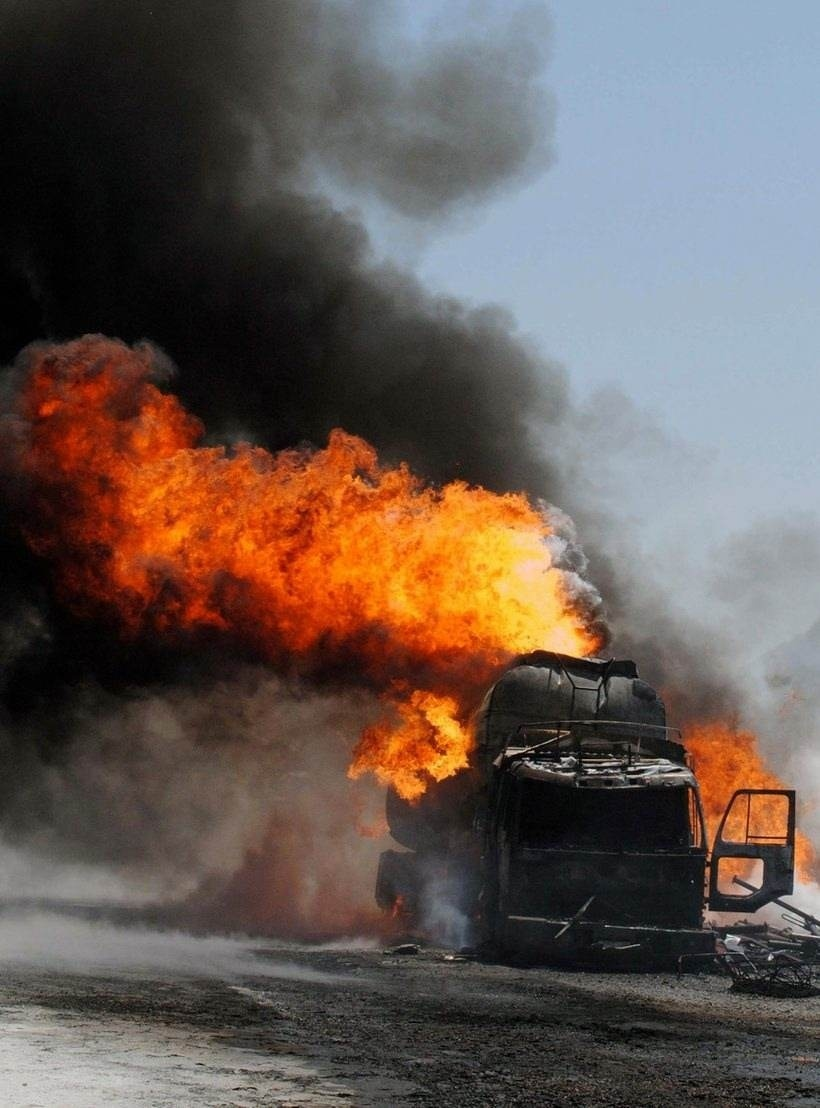fire: (25, 319, 613, 838), (680, 718, 811, 898)
